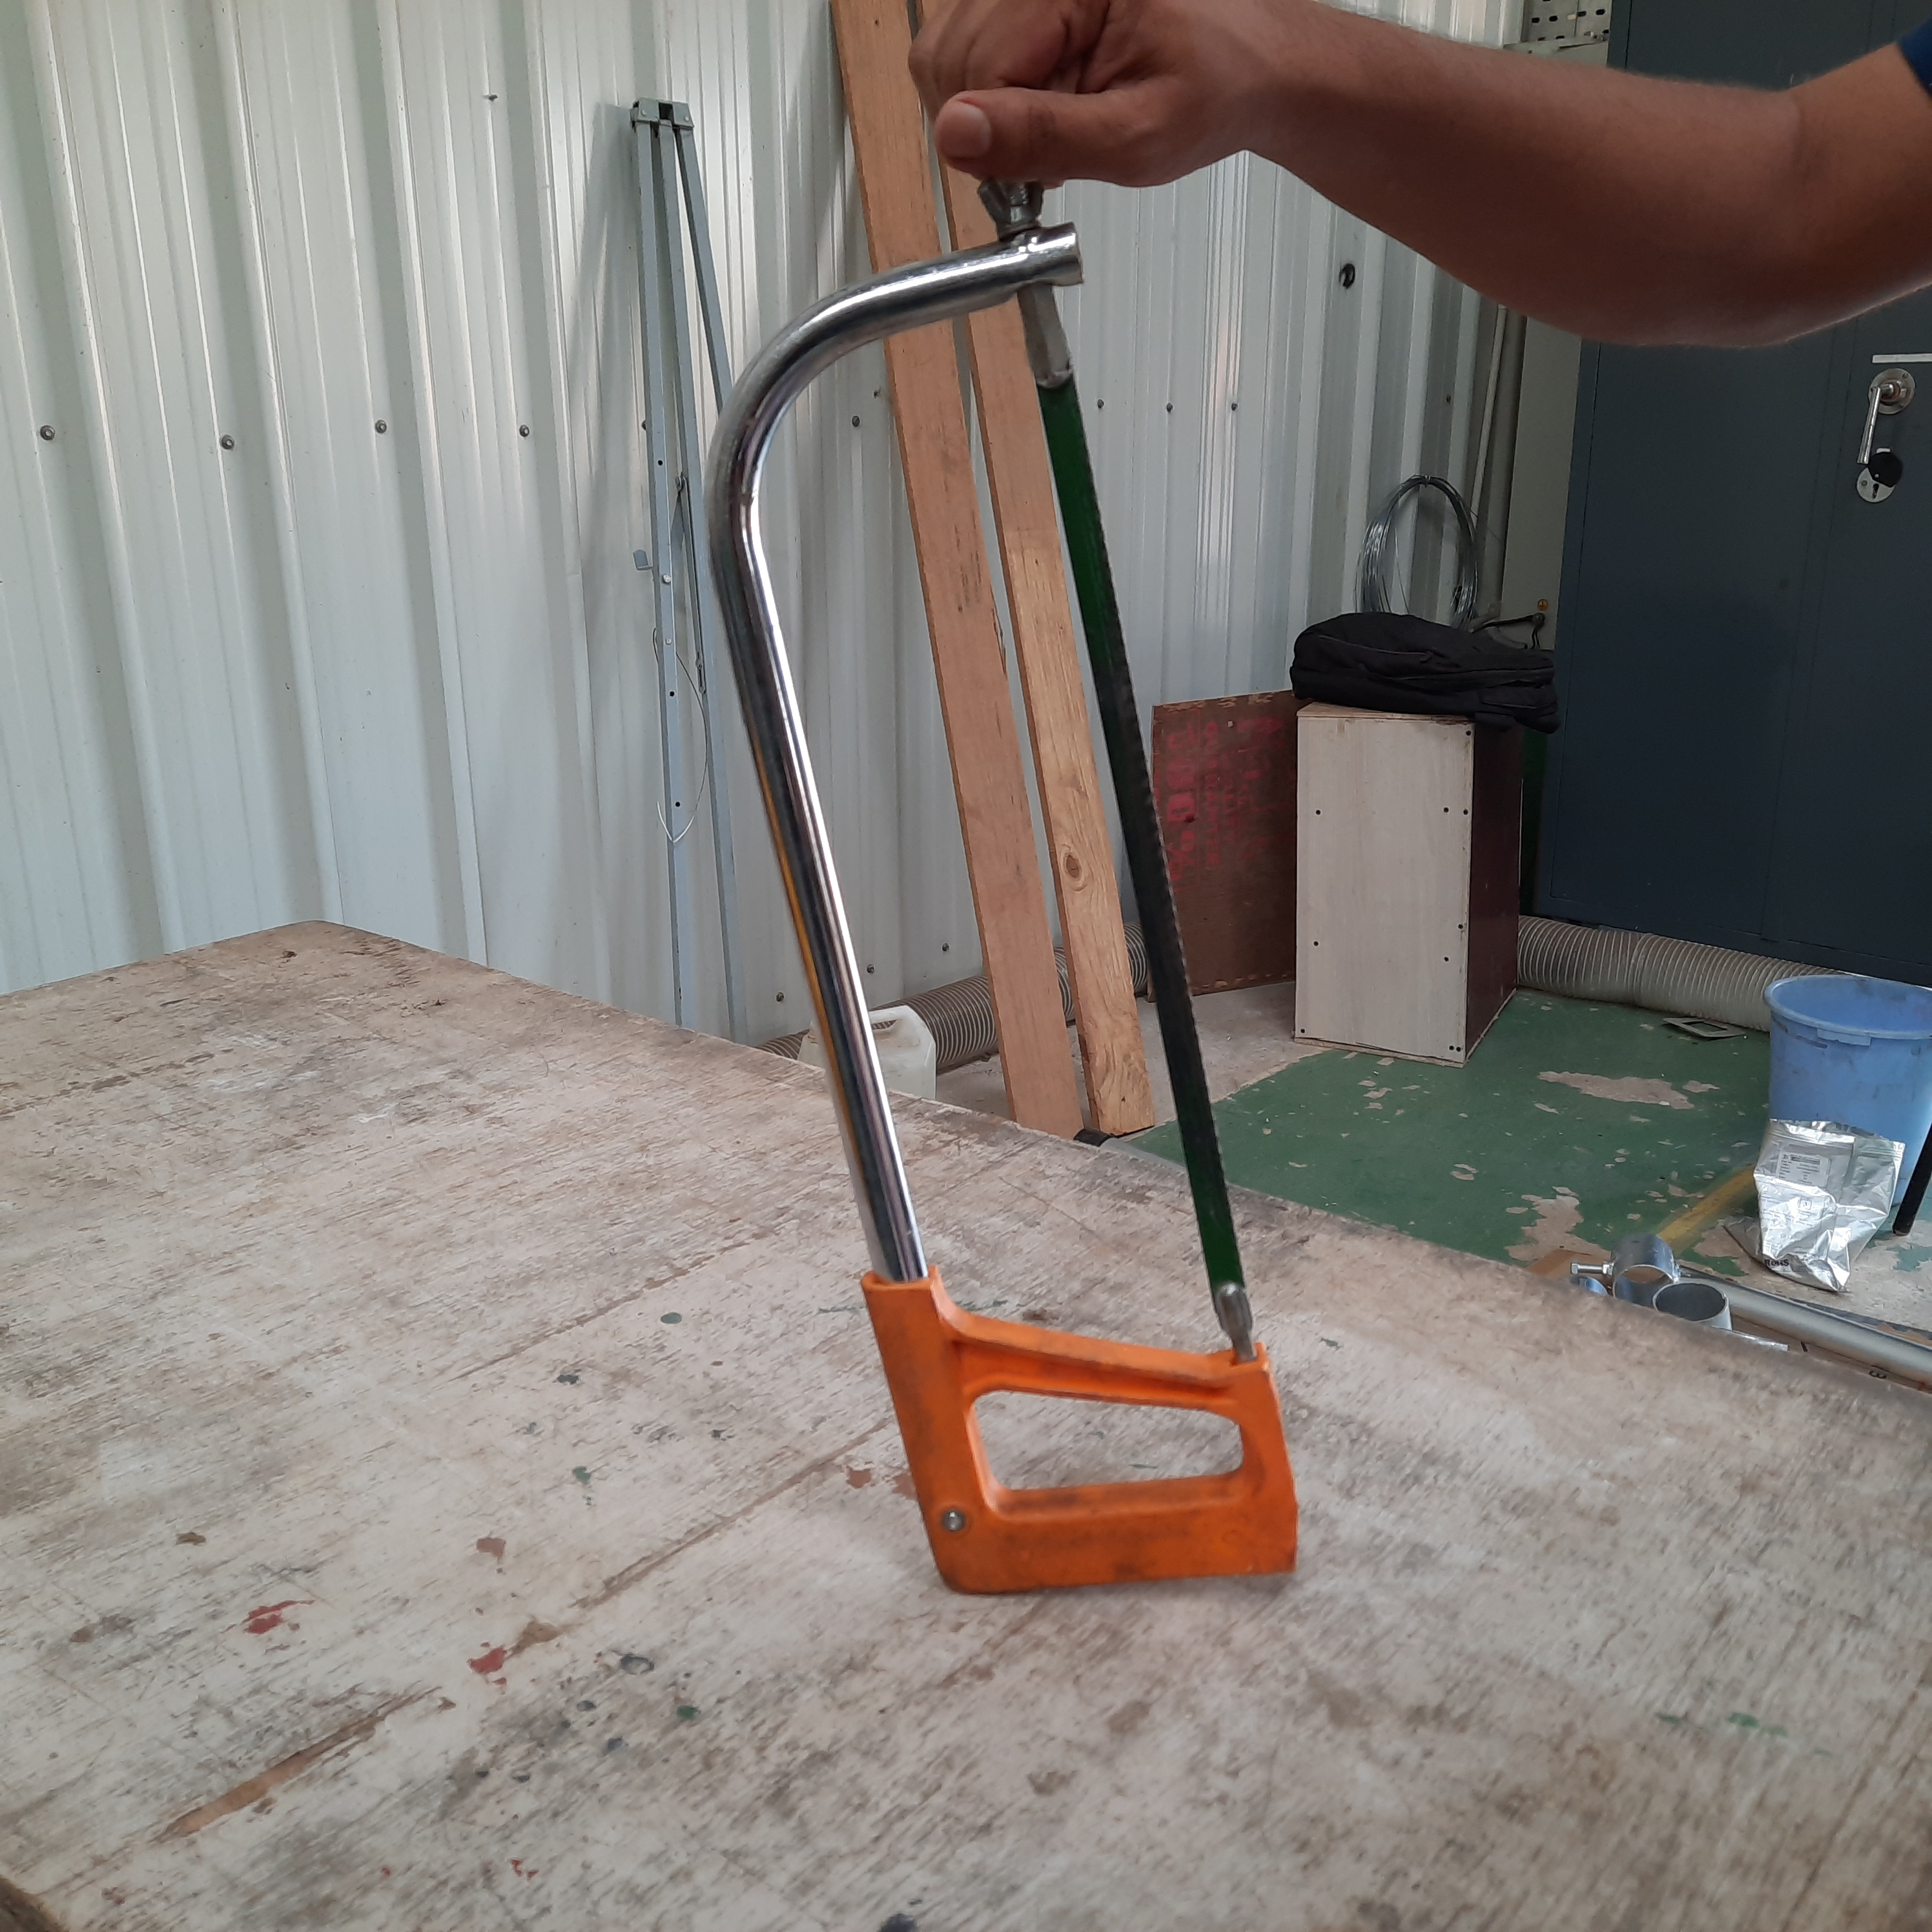Hexaframe: (686, 179, 1345, 1582)
